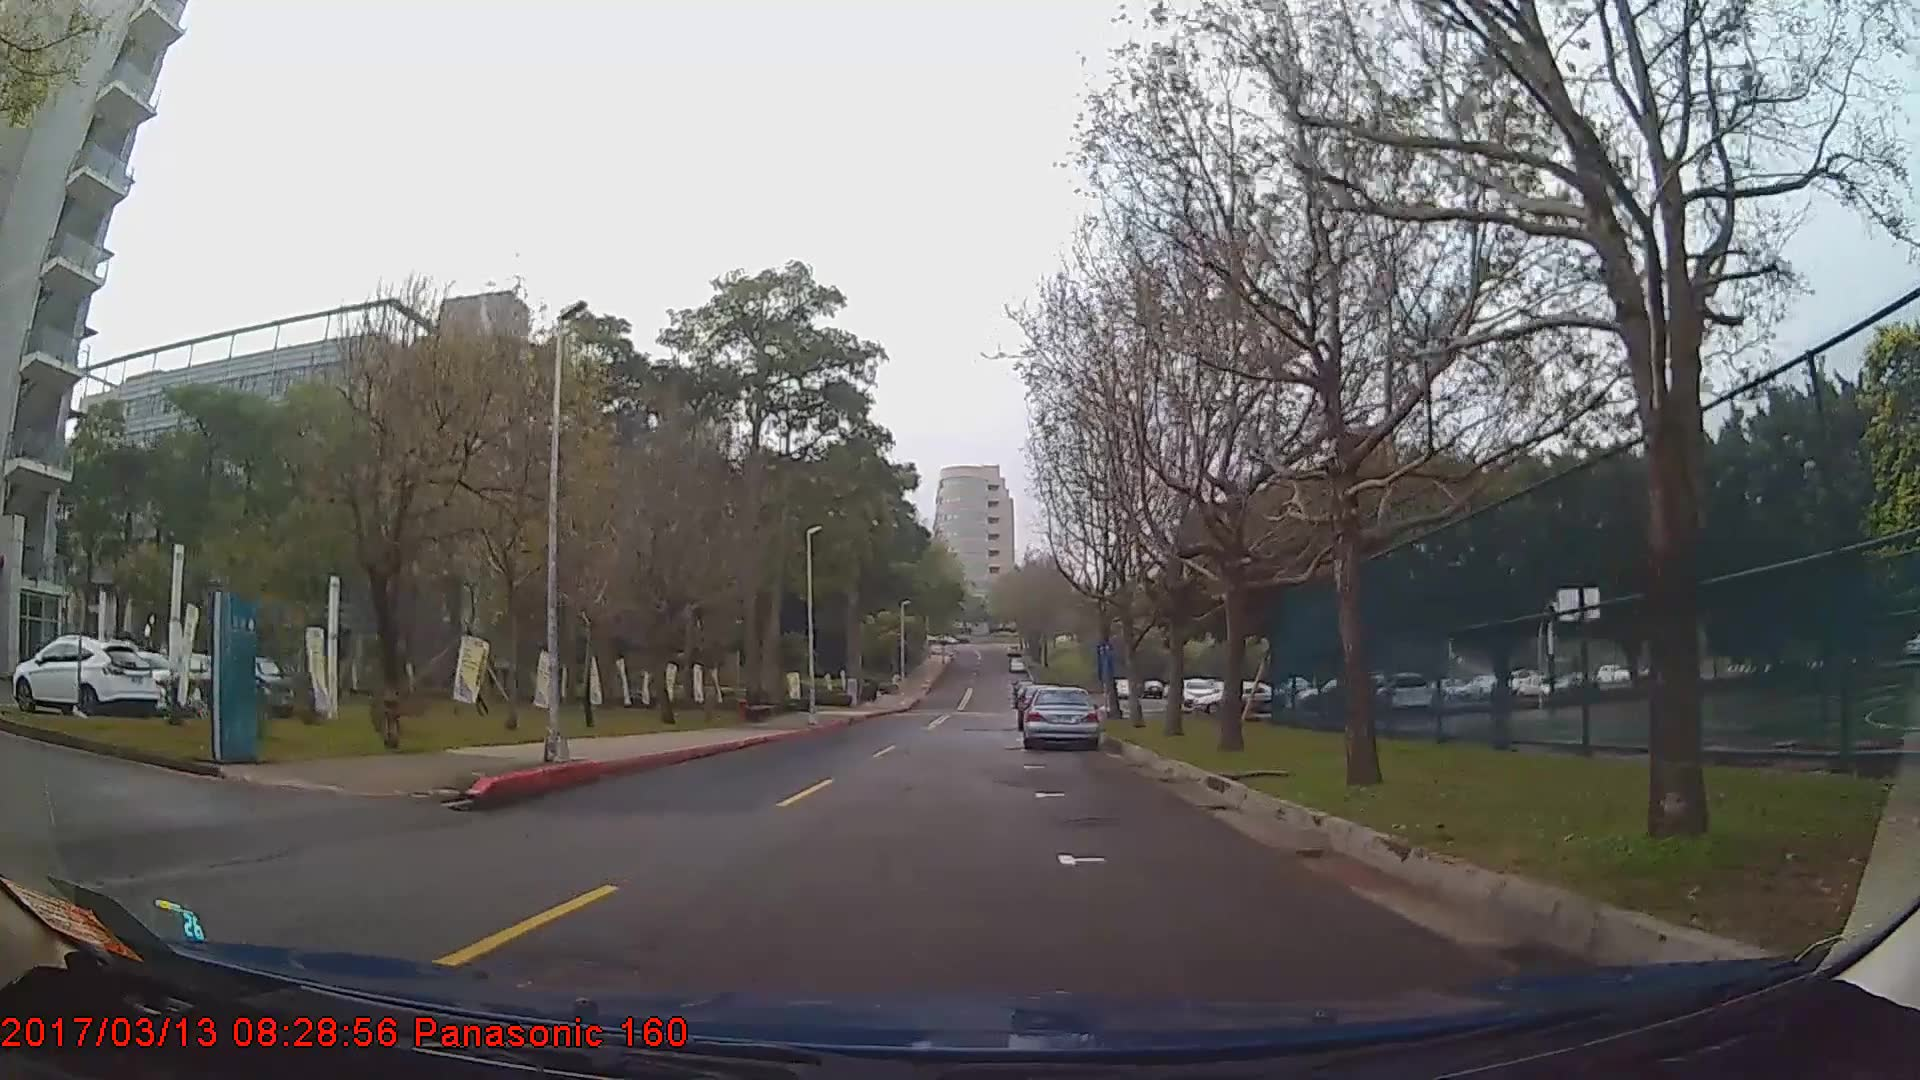vehicle: (15, 633, 156, 717), (70, 646, 202, 709), (1022, 684, 1100, 750)
